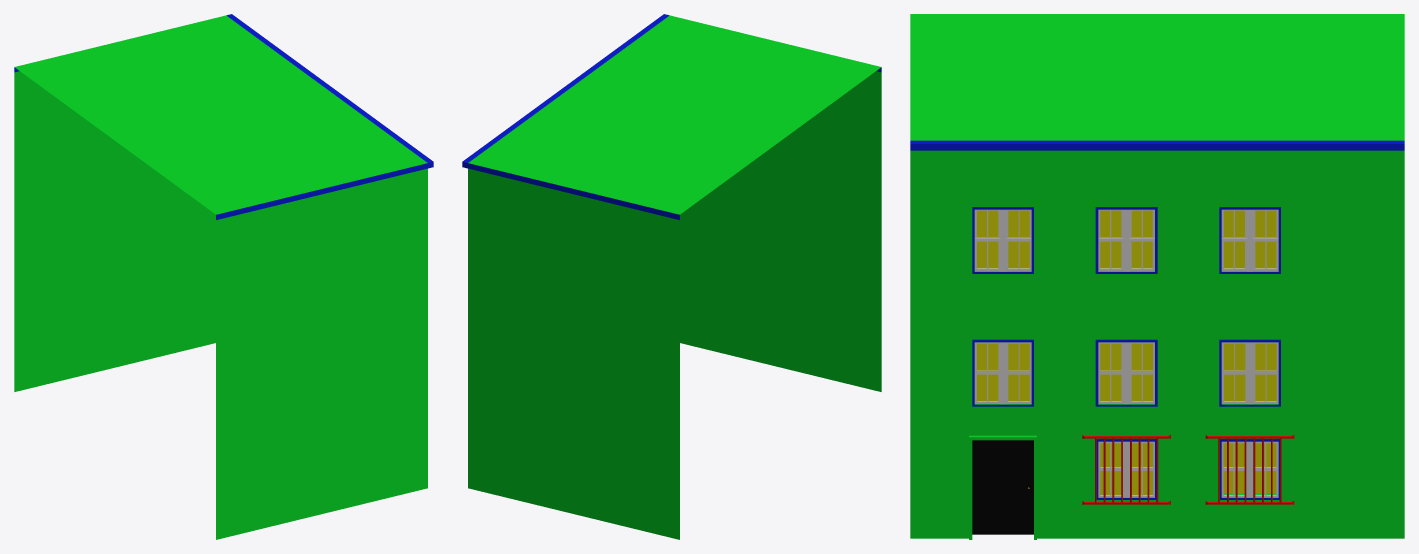
The model's file is Building C.fbx.
3 renders of one model, left to right at view 1: azimuth 30°, elevation 25°; view 2: azimuth 150°, elevation 25°; view 3: azimuth 270°, elevation 25°, orthographic. The views are drawn at different scales.
Parts seen in each view (by area): view 1: Building C.002; view 2: Building C.002; view 3: Building C.002.
Part boxes in pixels (box(x1,y1,x2,y2)): Building C.002: box(14, 14, 433, 539); Building C.002: box(462, 14, 881, 539); Building C.002: box(910, 14, 1404, 539).
Size of the model in its own units: 6.16 by 8.8 by 9.9.
